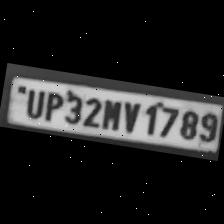1: (138, 100, 162, 138)
2: (79, 94, 103, 130)
3: (60, 90, 85, 127)
7: (152, 102, 178, 140)
8: (174, 106, 202, 142)
9: (195, 108, 222, 144)
M: (98, 95, 122, 132)
P: (39, 88, 64, 123)
U: (20, 86, 46, 119)
V: (117, 98, 142, 136)
